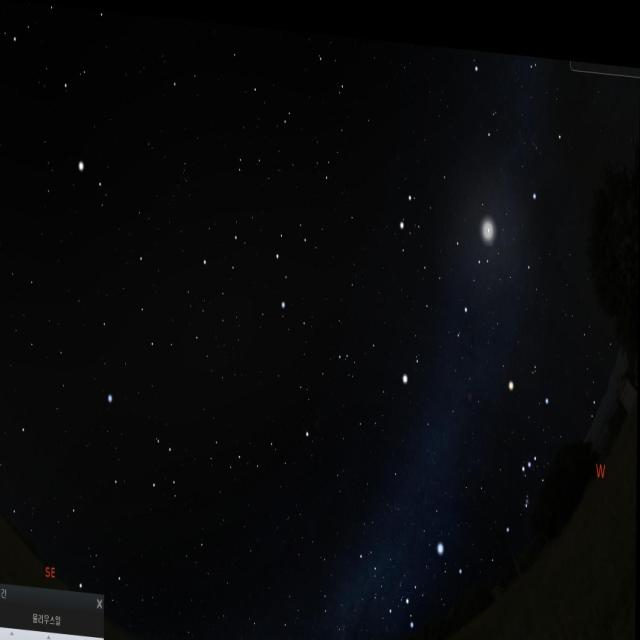bootes: (31, 3, 114, 182)
canis_major: (396, 514, 474, 636)
canis_minor: (394, 336, 430, 390)
gemini: (394, 173, 488, 314)
leo: (195, 190, 313, 332)
moon: (479, 191, 504, 245)
orion: (503, 367, 566, 526)
